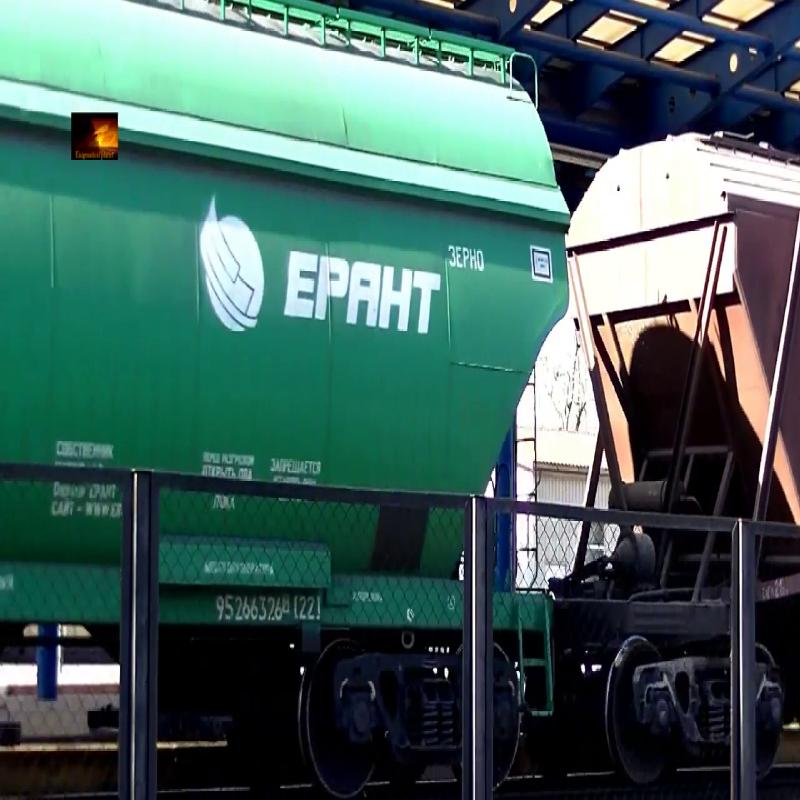train: (3, 4, 581, 775), (601, 1, 800, 764)
